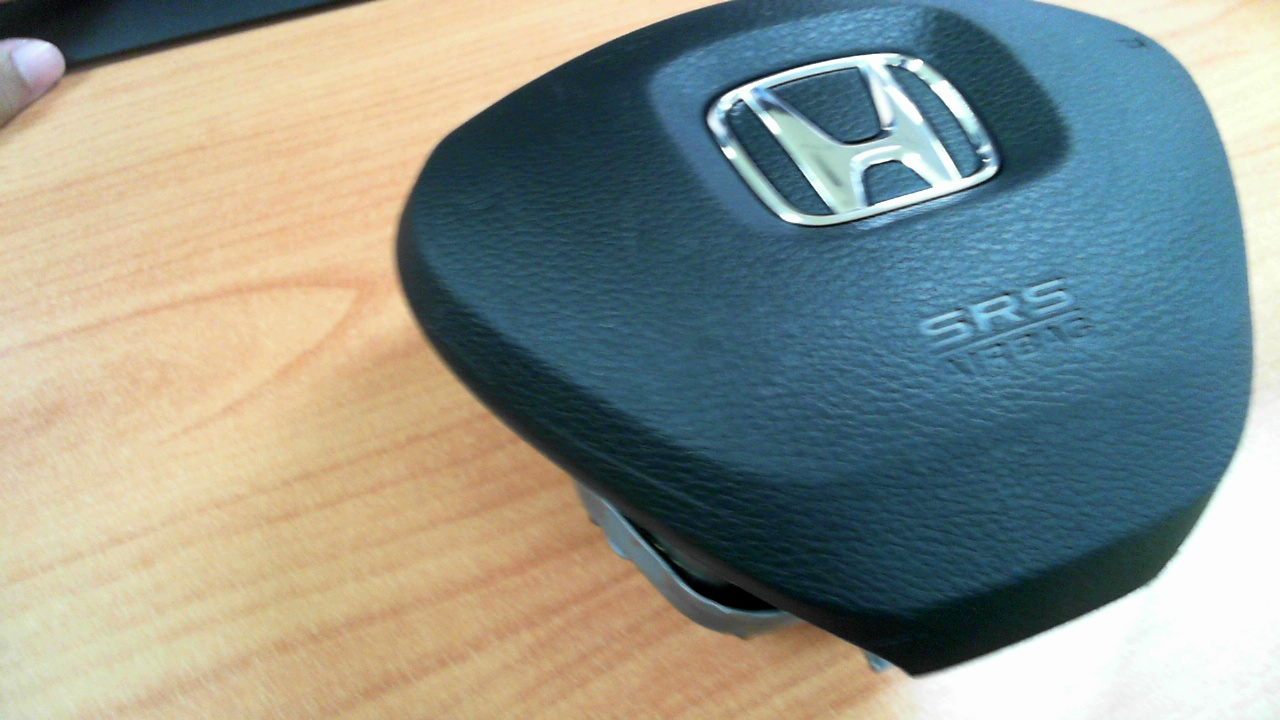Airbag: (394, 0, 1254, 678)
Honda: (706, 51, 999, 231)
